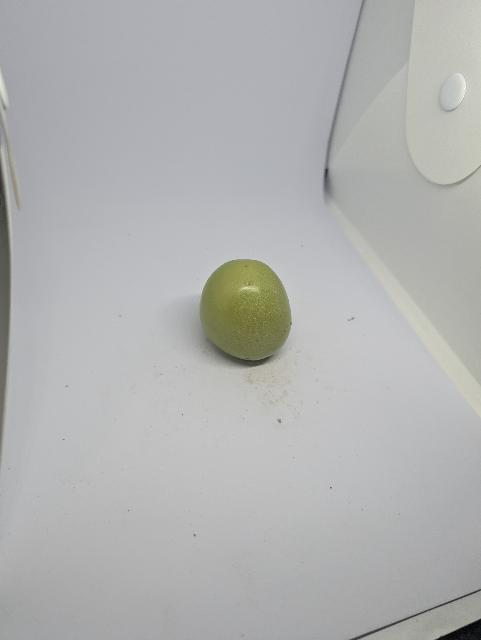green: (179, 227, 307, 386)
